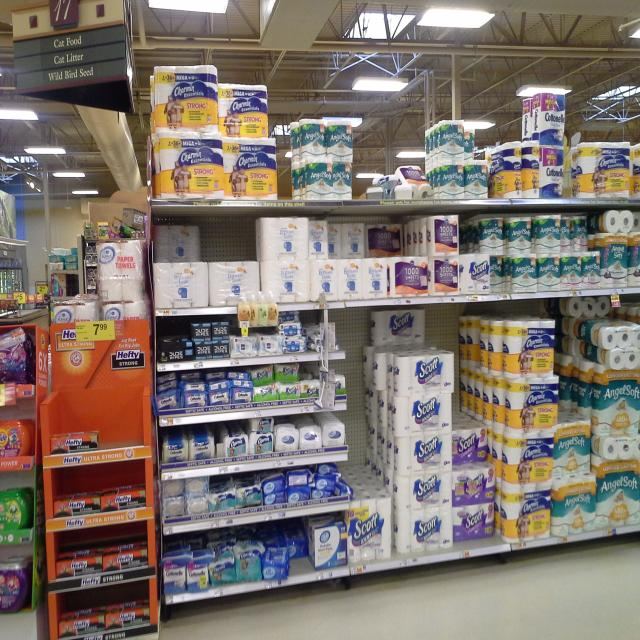unorganised: (447, 475, 498, 536), (151, 221, 201, 262), (399, 161, 438, 199), (366, 221, 407, 257), (329, 220, 366, 259), (263, 547, 290, 580), (491, 258, 513, 292), (312, 471, 340, 492), (289, 538, 310, 559)
